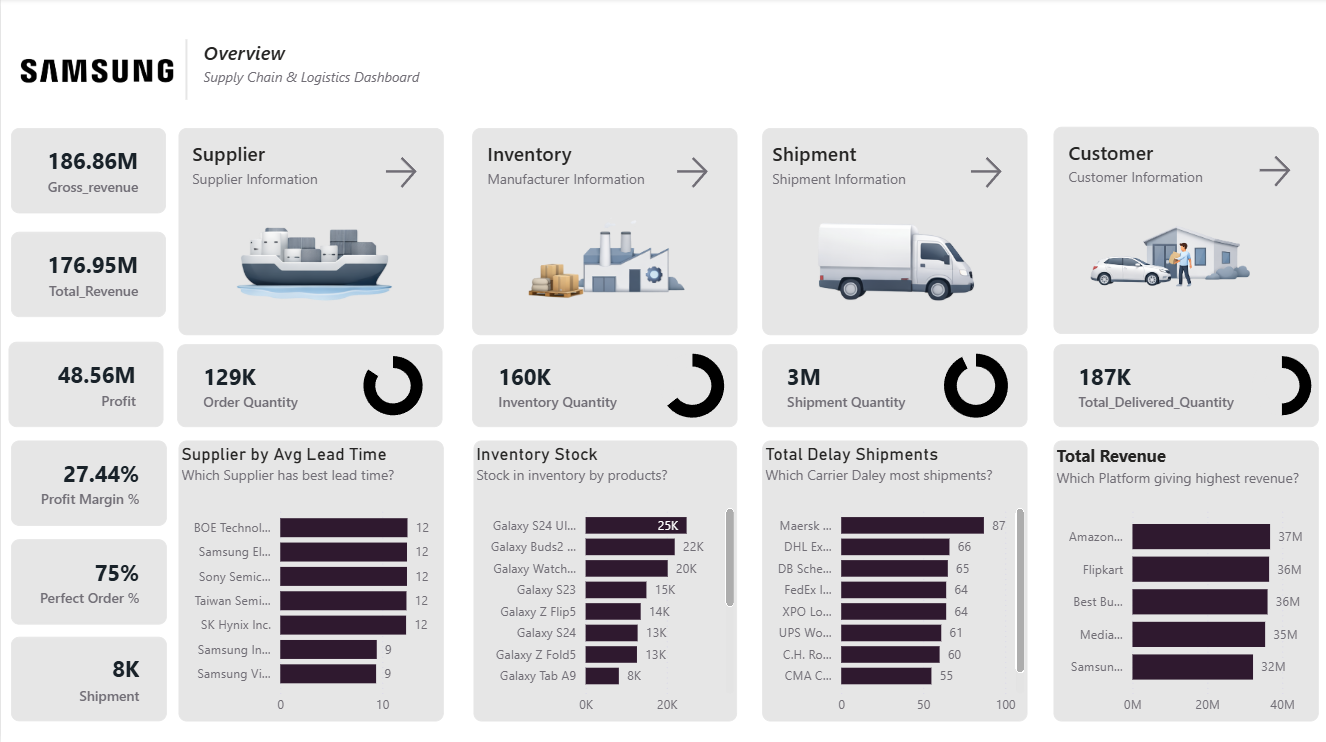

Layout of this report page (visuals, bound fields, positions):
{"tool":"powerbi","page":{"name":"Page 1","canvas":[1280,720],"ordinal":0},"visuals":[{"type":"shape","box":[171.4,125.3,256,200],"z":0},{"type":"shape","box":[1016,124.7,256,200],"z":1000},{"type":"shape","box":[735,125.3,256,200],"z":2000},{"type":"shape","box":[454.5,125.3,256,200],"z":3000},{"type":"image","box":[211.2,188,175,120],"z":4000},{"type":"image","box":[492.5,188,173.8,120],"z":5000},{"type":"image","box":[775,188,173.8,120],"z":6000},{"type":"image","box":[1045,186.7,175,120],"z":7000},{"type":"actionButton","box":[366,147.9,60,40],"z":8000},{"type":"actionButton","box":[646.7,147.9,60,40],"z":9000},{"type":"actionButton","box":[930.5,147.9,60,40],"z":10000},{"type":"actionButton","box":[1208.6,146.7,60,40],"z":11000},{"type":"shape","title":"Supplier","box":[184.6,137.9,158.6,58.6],"z":12000},{"type":"shape","title":"Inventory","box":[469.5,137.9,158.6,58.6],"z":13000},{"type":"shape","title":"Shipment","box":[744.8,137.9,158.6,58.6],"z":14000},{"type":"shape","title":"Customer","box":[1030,136.7,158.6,58.6],"z":15000},{"type":"shape","title":"Overview","box":[195.7,40,225.7,58.6],"z":16000},{"type":"shape","box":[157.1,40,44.3,58.6],"z":17000},{"type":"image","box":[7.1,44.3,164.3,50],"z":18000},{"type":"cardVisual","fields":{"Data":["Sum(fact_sales.gross_revenue)"]},"box":[9.7,125.5,149.6,82],"z":19000},{"type":"shape","box":[170,334,256.2,80],"z":20000},{"type":"shape","box":[1016.2,334,256.2,80],"z":21000},{"type":"shape","box":[735,334,256.2,80],"z":22000},{"type":"shape","box":[455,334,256.2,80],"z":23000},{"type":"cardVisual","fields":{"Data":["MeasuresTable.Order_QTY"]},"box":[171.4,334.3,142.9,80],"z":24000},{"type":"cardVisual","fields":{"Data":["MeasuresTable.Total_Revenue"]},"box":[9.7,225.6,149.6,82],"z":25000},{"type":"cardVisual","fields":{"Data":["MeasuresTable.Profit"]},"box":[7.2,331.8,149.6,82],"z":26000},{"type":"cardVisual","fields":{"Data":["MeasuresTable.Profit Margin %"]},"box":[9.7,427.1,150,82],"z":27000},{"type":"cardVisual","fields":{"Data":["MeasuresTable.Perfect_Order %"]},"box":[9.7,522.4,150,82],"z":28000},{"type":"cardVisual","fields":{"Data":["MeasuresTable.Inventory_Value"]},"box":[455.7,334.3,177.1,80],"z":29000},{"type":"cardVisual","fields":{"Data":["MeasuresTable.Total_Shipment_Quantity"]},"box":[734.3,334.3,201.4,80],"z":30000},{"type":"cardVisual","fields":{"Data":["MeasuresTable.Total_Delivered_Quantity"]},"box":[1015.7,334.3,205.7,80],"z":31000},{"type":"clusteredBarChart","title":"Supplier by Avg Lead Time","fields":{"Y":["MeasuresTable.Avg_Lead_Time"],"Category":["dim_supplier.supplier_name"]},"box":[171.4,427.1,255.7,271.4],"z":32000},{"type":"clusteredBarChart","title":"Inventory Stock","fields":{"Y":["MeasuresTable.Inventory_Value"],"Category":["dim_product.product_name"]},"box":[455.7,427.1,254.3,271.4],"z":33000},{"type":"clusteredBarChart","title":"Total Delay Shipments","fields":{"Y":["MeasuresTable.Total_Delay"],"Category":["fact_shipment.carrier"]},"box":[734.3,427.1,255.7,271.4],"z":34000},{"type":"clusteredBarChart","title":"Total Revenue ","fields":{"Y":["MeasuresTable.Total_Revenue"],"Category":["dim_customer.customer_name"]},"box":[1015.7,427.1,255.7,271.4],"z":35000},{"type":"donutChart","fields":{"Y":["MeasuresTable.Inventory_Value","MeasuresTable.Safety_Stock"]},"box":[628.6,334.3,77.1,80],"z":36000},{"type":"donutChart","fields":{"Y":["MeasuresTable.Total_Shipment","MeasuresTable.Total_Delay"]},"box":[902.9,334.3,77.1,80],"z":37000},{"type":"donutChart","fields":{"Y":["MeasuresTable.Total_Delivered_Quantity","MeasuresTable.Total_QTY_Delay"]},"box":[1200,334.3,71.4,80],"z":38000},{"type":"donutChart","fields":{"Y":["MeasuresTable.Order_QTY","MeasuresTable.Defect_Rate"]},"box":[342.9,334.3,71.4,80],"z":39000},{"type":"cardVisual","fields":{"Data":["MeasuresTable.Total_Shipment"]},"box":[9.7,616.6,150,81.4],"z":40000}]}

Visuals, with their boxes in screenshot pixels (x1, y1, x2, y2), scaled from the page's 1280x720 canvas onto the 1326x742 screenshot:
shape: {"left": 178, "top": 129, "right": 443, "bottom": 335}
shape: {"left": 1053, "top": 129, "right": 1318, "bottom": 335}
shape: {"left": 761, "top": 129, "right": 1027, "bottom": 335}
shape: {"left": 471, "top": 129, "right": 736, "bottom": 335}
image: {"left": 219, "top": 194, "right": 400, "bottom": 317}
image: {"left": 510, "top": 194, "right": 690, "bottom": 317}
image: {"left": 803, "top": 194, "right": 983, "bottom": 317}
image: {"left": 1083, "top": 192, "right": 1264, "bottom": 316}
actionButton: {"left": 379, "top": 152, "right": 441, "bottom": 194}
actionButton: {"left": 670, "top": 152, "right": 732, "bottom": 194}
actionButton: {"left": 964, "top": 152, "right": 1026, "bottom": 194}
actionButton: {"left": 1252, "top": 151, "right": 1314, "bottom": 192}
"Supplier" shape: {"left": 191, "top": 142, "right": 356, "bottom": 203}
"Inventory" shape: {"left": 486, "top": 142, "right": 651, "bottom": 203}
"Shipment" shape: {"left": 772, "top": 142, "right": 936, "bottom": 203}
"Customer" shape: {"left": 1067, "top": 141, "right": 1231, "bottom": 201}
"Overview" shape: {"left": 203, "top": 41, "right": 437, "bottom": 102}
shape: {"left": 163, "top": 41, "right": 209, "bottom": 102}
image: {"left": 7, "top": 46, "right": 178, "bottom": 97}
cardVisual - Sum(fact_sales.gross_revenue): {"left": 10, "top": 129, "right": 165, "bottom": 214}
shape: {"left": 176, "top": 344, "right": 442, "bottom": 427}
shape: {"left": 1053, "top": 344, "right": 1318, "bottom": 427}
shape: {"left": 761, "top": 344, "right": 1027, "bottom": 427}
shape: {"left": 471, "top": 344, "right": 737, "bottom": 427}
cardVisual - MeasuresTable.Order_QTY: {"left": 178, "top": 345, "right": 326, "bottom": 427}
cardVisual - MeasuresTable.Total_Revenue: {"left": 10, "top": 232, "right": 165, "bottom": 317}
cardVisual - MeasuresTable.Profit: {"left": 7, "top": 342, "right": 162, "bottom": 426}
cardVisual - MeasuresTable.Profit Margin %: {"left": 10, "top": 440, "right": 165, "bottom": 525}
cardVisual - MeasuresTable.Perfect_Order %: {"left": 10, "top": 538, "right": 165, "bottom": 623}
cardVisual - MeasuresTable.Inventory_Value: {"left": 472, "top": 345, "right": 656, "bottom": 427}
cardVisual - MeasuresTable.Total_Shipment_Quantity: {"left": 761, "top": 345, "right": 969, "bottom": 427}
cardVisual - MeasuresTable.Total_Delivered_Quantity: {"left": 1052, "top": 345, "right": 1265, "bottom": 427}
"Supplier by Avg Lead Time" clusteredBarChart: {"left": 178, "top": 440, "right": 442, "bottom": 720}
"Inventory Stock" clusteredBarChart: {"left": 472, "top": 440, "right": 736, "bottom": 720}
"Total Delay Shipments" clusteredBarChart: {"left": 761, "top": 440, "right": 1026, "bottom": 720}
"Total Revenue " clusteredBarChart: {"left": 1052, "top": 440, "right": 1317, "bottom": 720}
donutChart - MeasuresTable.Inventory_Value x MeasuresTable.Safety_Stock: {"left": 651, "top": 345, "right": 731, "bottom": 427}
donutChart - MeasuresTable.Total_Shipment x MeasuresTable.Total_Delay: {"left": 935, "top": 345, "right": 1015, "bottom": 427}
donutChart - MeasuresTable.Total_Delivered_Quantity x MeasuresTable.Total_QTY_Delay: {"left": 1243, "top": 345, "right": 1317, "bottom": 427}
donutChart - MeasuresTable.Order_QTY x MeasuresTable.Defect_Rate: {"left": 355, "top": 345, "right": 429, "bottom": 427}
cardVisual - MeasuresTable.Total_Shipment: {"left": 10, "top": 635, "right": 165, "bottom": 719}
